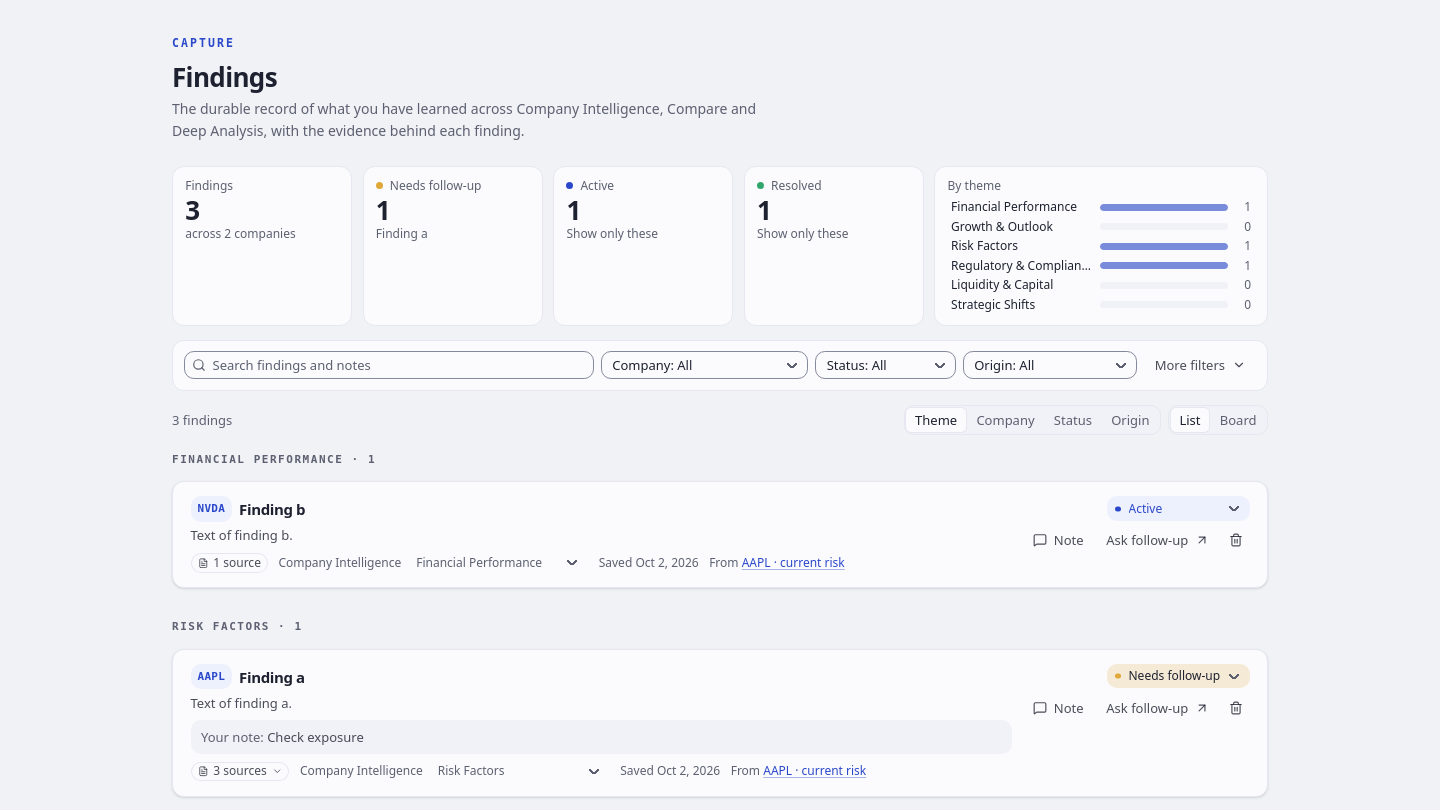
it: Findings: summary strip and filters › search, company, status, origin are in one row; theme, analysis and dates are one click away under More filters
The width and height of the screenshot is (1440, 810).
Type "exposure" into the search field labelled "Search findings and notes" at (389, 365), box [184,351,594,379]
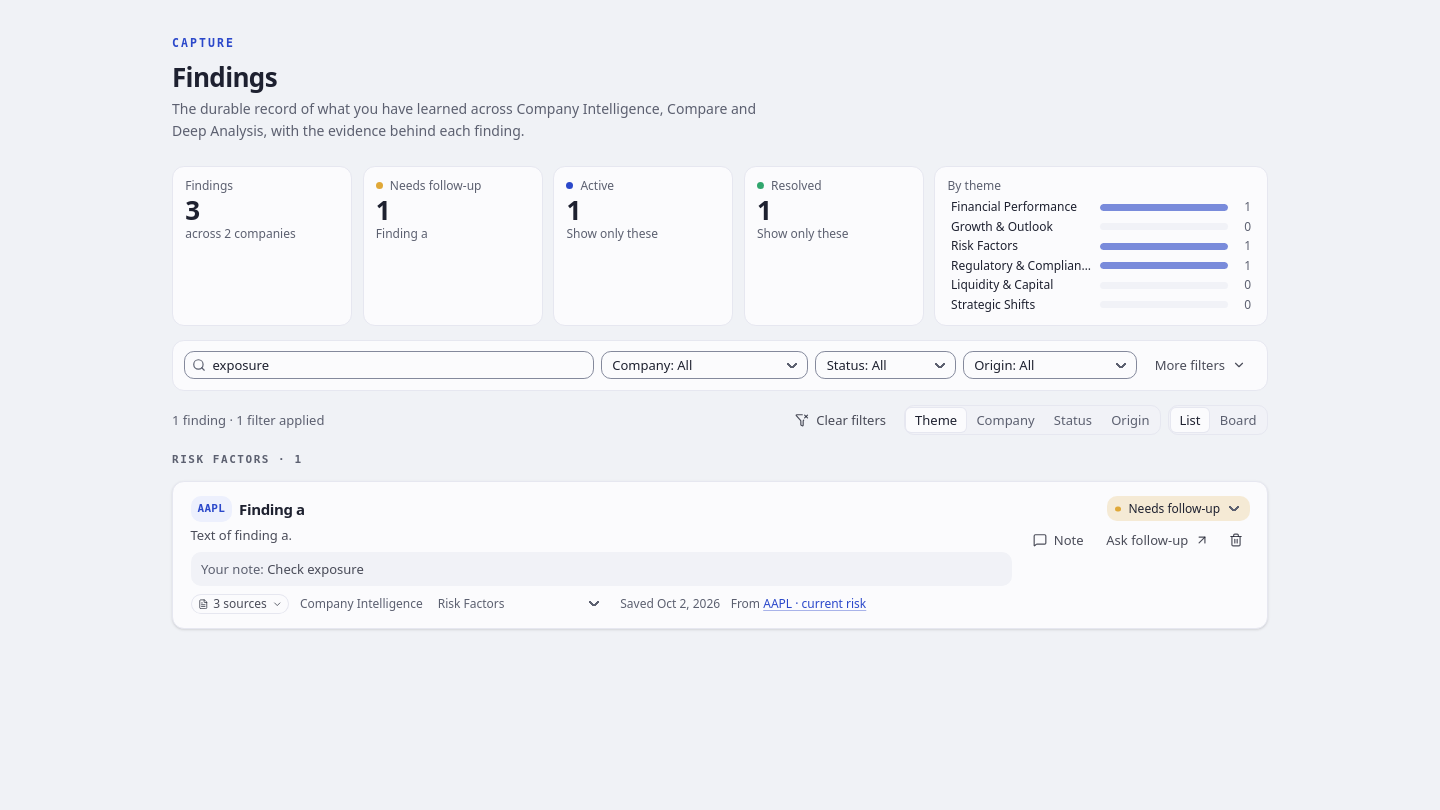
Check: the headings read "Finding a", in this order, box [239,498,305,520]
Check: the text "1 finding · 1 filter applied" is shown, box [172,410,324,430]
Click the button "Clear filters" at (841, 420), box [785,406,897,434]
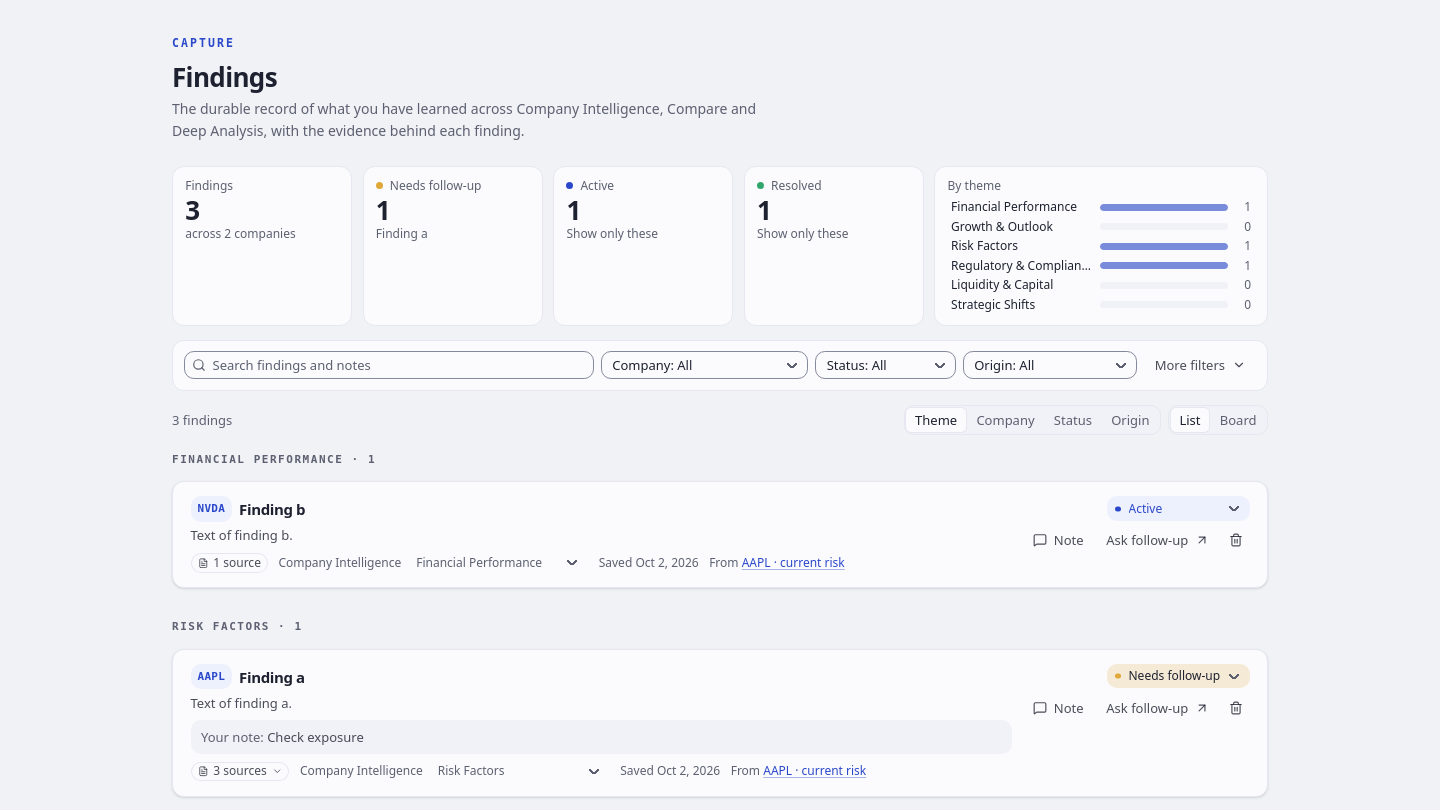
Check: the 1st dropdown named "Company" is shown, box [601,351,808,379]
Check: the 2nd dropdown named "Status" is shown, box [815,351,956,379]
Click the button "More filters" at (1200, 365), box [1144,351,1256,379]
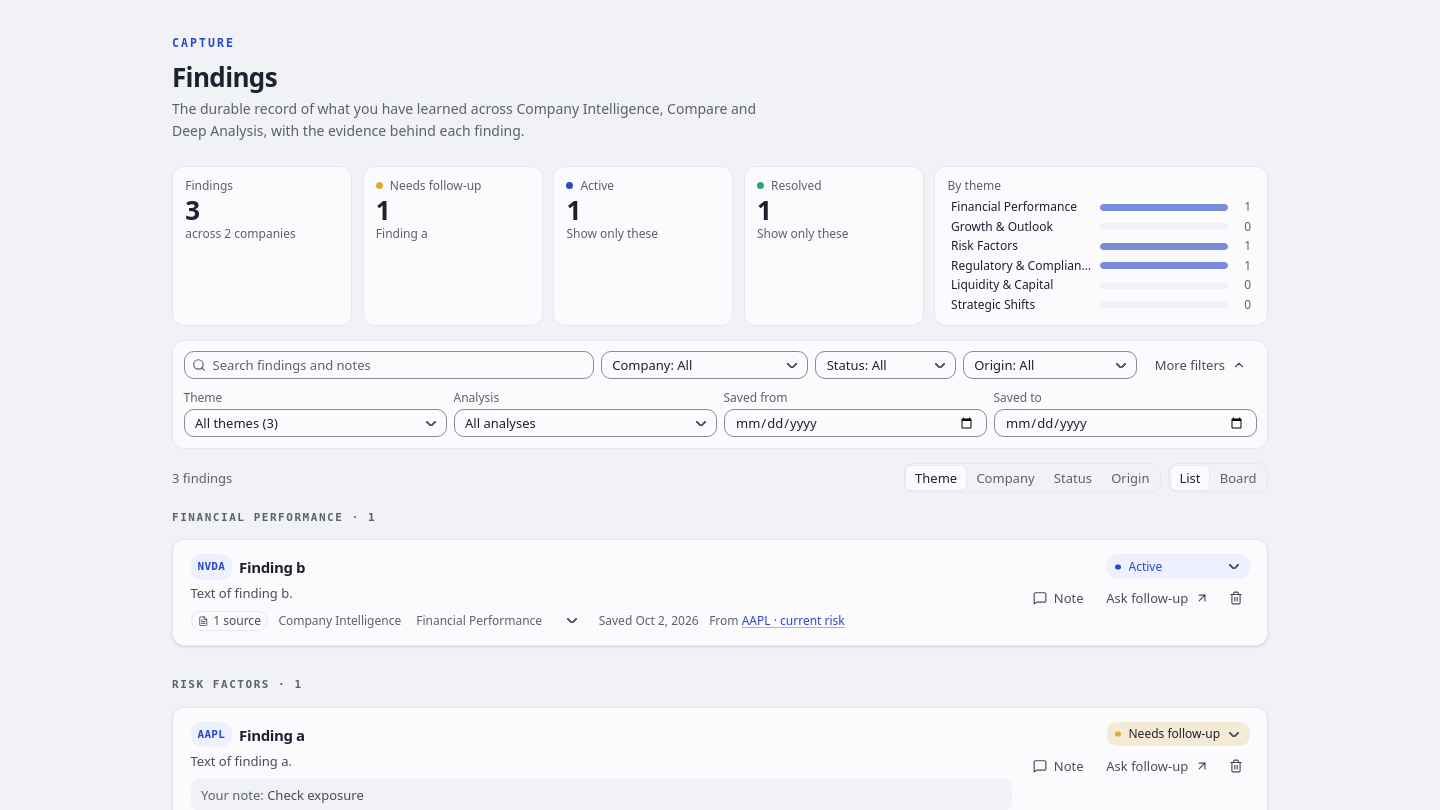
Check: the button "More filters" is expanded, box [1144,351,1256,379]
Check: the dropdown labelled "Theme" is shown, box [184,409,446,437]
Check: the dropdown labelled "Analysis" is shown, box [454,409,716,437]
